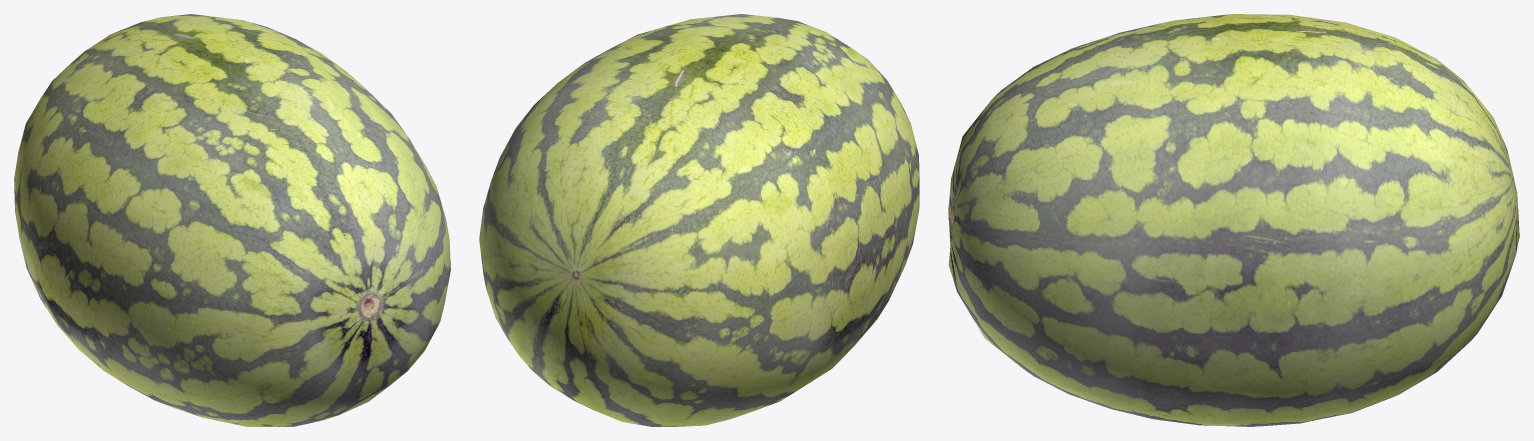
Rendered from watermelon.glb.
3 views of the same model, side by side, from view 1: azimuth 30°, elevation 25°; view 2: azimuth 150°, elevation 25°; view 3: azimuth 270°, elevation 25° (orthographic). The views are drawn at different scales.
Visible parts, largest first — view 1: Watermelon; view 2: Watermelon; view 3: Watermelon.
Part boxes in pixels (x1,y1,x2,y2): Watermelon: [14, 14, 450, 426]; Watermelon: [479, 14, 919, 426]; Watermelon: [948, 14, 1519, 426].
Size of the model in its own units: 0.574 by 0.5637 by 0.7773.
Materials: 1 (1 with a texture image).
